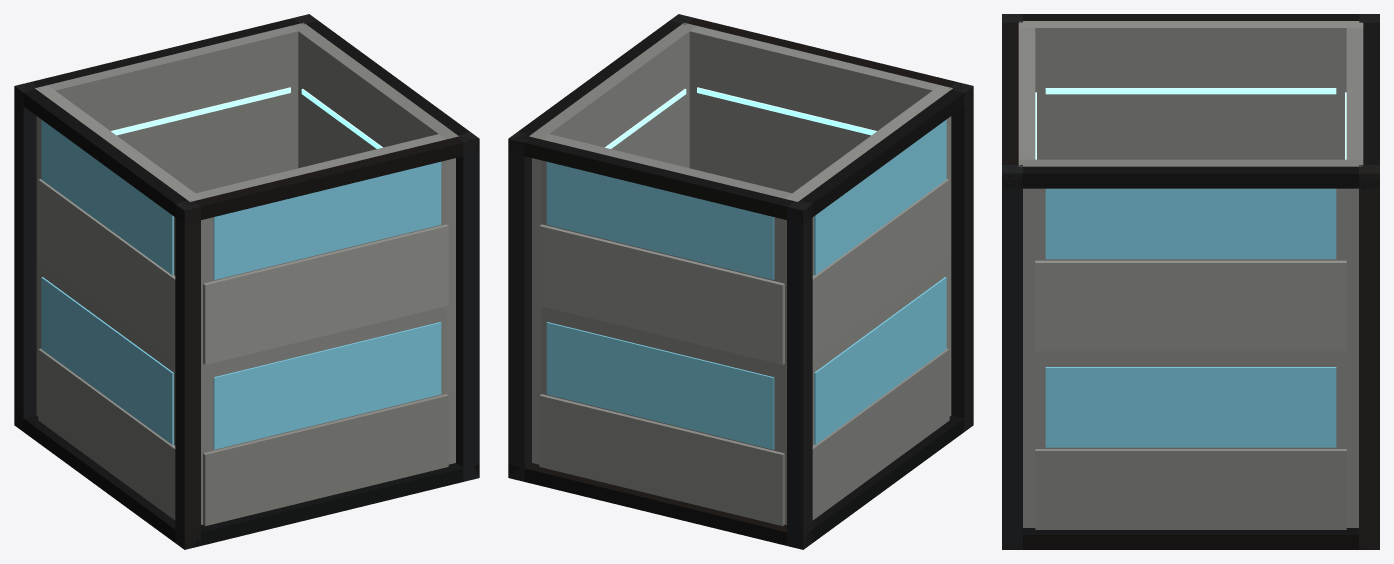
Rendered from chute_adv_v_straight.glb.
3 renders of one model, left to right at view 1: azimuth 30°, elevation 25°; view 2: azimuth 150°, elevation 25°; view 3: azimuth 270°, elevation 25°, orthographic. The views are drawn at different scales.
Parts seen in each view (by area): view 1: Frame, Power; view 2: Frame, Power; view 3: Frame, Power.
Part boxes in pixels (x1,y1,x2,y2): Frame: [14, 14, 479, 549]; Power: [111, 87, 382, 148]; Frame: [508, 14, 973, 549]; Power: [605, 87, 876, 148]; Frame: [1002, 14, 1379, 549]; Power: [1035, 88, 1346, 159].
Size of the model in its own units: 1.82 by 2 by 1.82.
